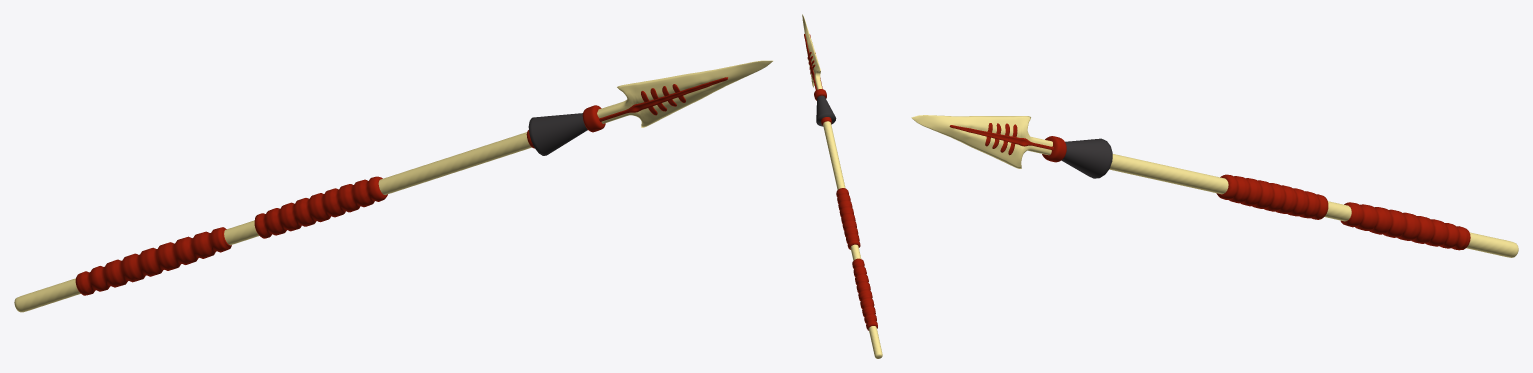
Rendered from COSSACK_WEAPON_20#0.glb.
The picture shows the model from 3 angles, left to right: view 1: azimuth 30°, elevation 25°; view 2: azimuth 150°, elevation 25°; view 3: azimuth 270°, elevation 25°; orthographic projection. The views are drawn at different scales.
Parts seen in each view (by area): view 1: Kopie4; view 2: Kopie4; view 3: Kopie4.
Boxes of the visible parts, box(x1,y1,x2,y2) form: Kopie4: box(14, 60, 772, 312); Kopie4: box(802, 14, 882, 358); Kopie4: box(911, 115, 1518, 257).
Size of the model in its own units: 6.46 by 4.84 by 7.4.
1 material, 1 textured.
